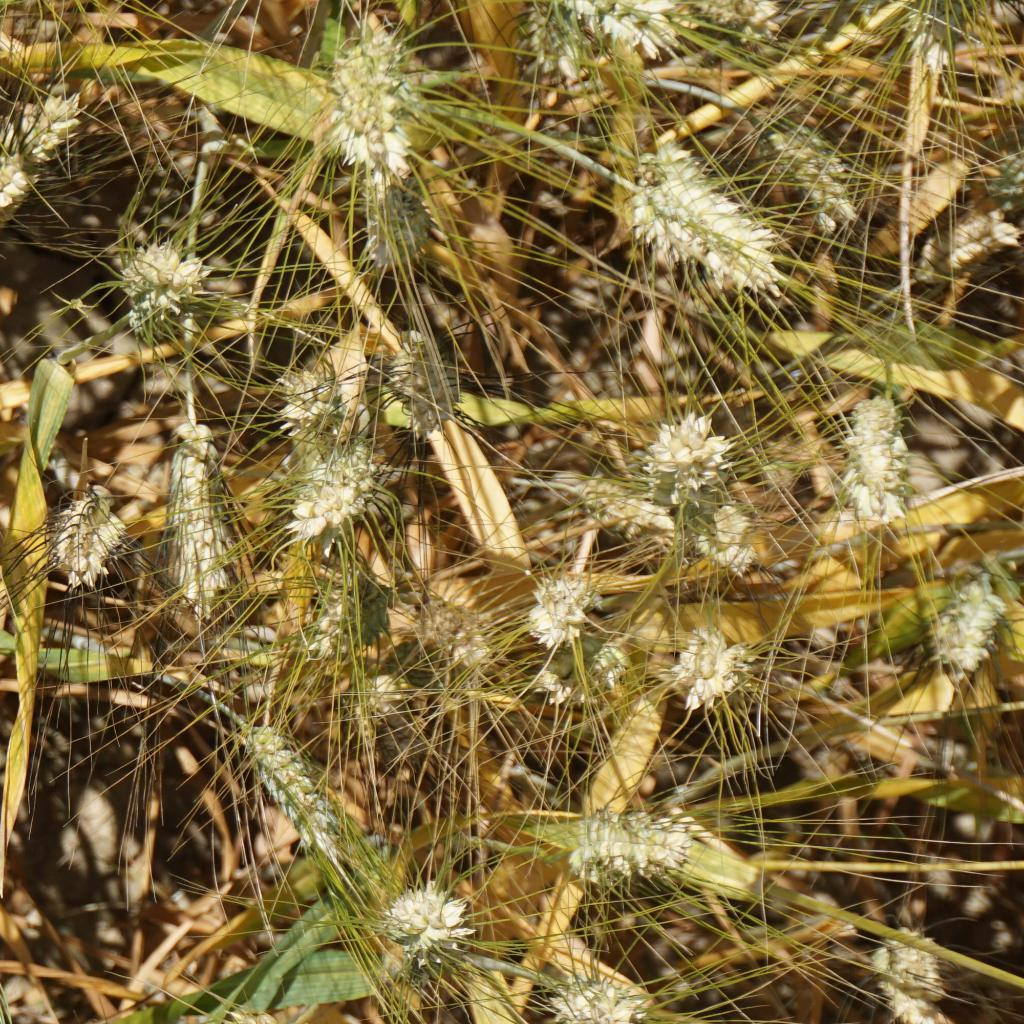0-0: (233, 724, 349, 864), (325, 28, 424, 183), (638, 186, 785, 289), (156, 411, 230, 605), (556, 801, 704, 889), (549, 473, 692, 562), (297, 550, 407, 665), (519, 622, 640, 716), (760, 120, 858, 227), (919, 566, 1013, 675), (350, 164, 442, 271), (287, 448, 388, 543), (843, 380, 910, 521), (387, 329, 468, 441), (864, 921, 951, 1024), (638, 404, 726, 504), (908, 207, 1011, 284), (114, 233, 194, 332), (510, 0, 588, 101), (387, 883, 473, 972), (902, 0, 988, 82), (673, 615, 747, 710), (686, 495, 763, 584), (394, 594, 486, 668), (61, 492, 129, 588), (10, 87, 89, 166), (545, 969, 647, 1024), (647, 137, 729, 204), (586, 0, 677, 58), (283, 371, 349, 447), (529, 576, 593, 653), (343, 665, 415, 731), (0, 146, 38, 243)
